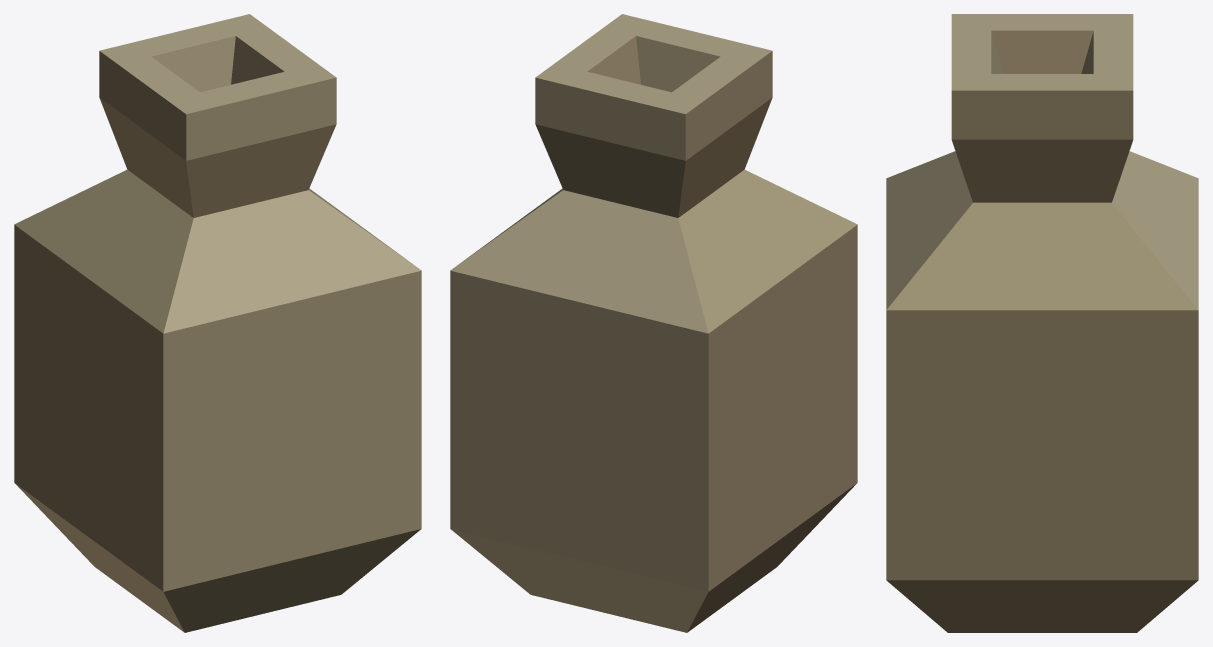
The model's file is SD_Prop_Vase_02.fbx.
3 renders of one model, left to right at view 1: azimuth 30°, elevation 25°; view 2: azimuth 150°, elevation 25°; view 3: azimuth 270°, elevation 25°, orthographic. The views are drawn at different scales.
Visible parts, largest first — view 1: SD_Prop_Vase_02; view 2: SD_Prop_Vase_02; view 3: SD_Prop_Vase_02.
Boxes of the visible parts, bbox=[...] form: SD_Prop_Vase_02: bbox=[14, 14, 421, 632]; SD_Prop_Vase_02: bbox=[450, 14, 857, 632]; SD_Prop_Vase_02: bbox=[886, 14, 1198, 632].
Bounding box in the file's own units: 0.4713 × 0.9003 × 0.4713.
